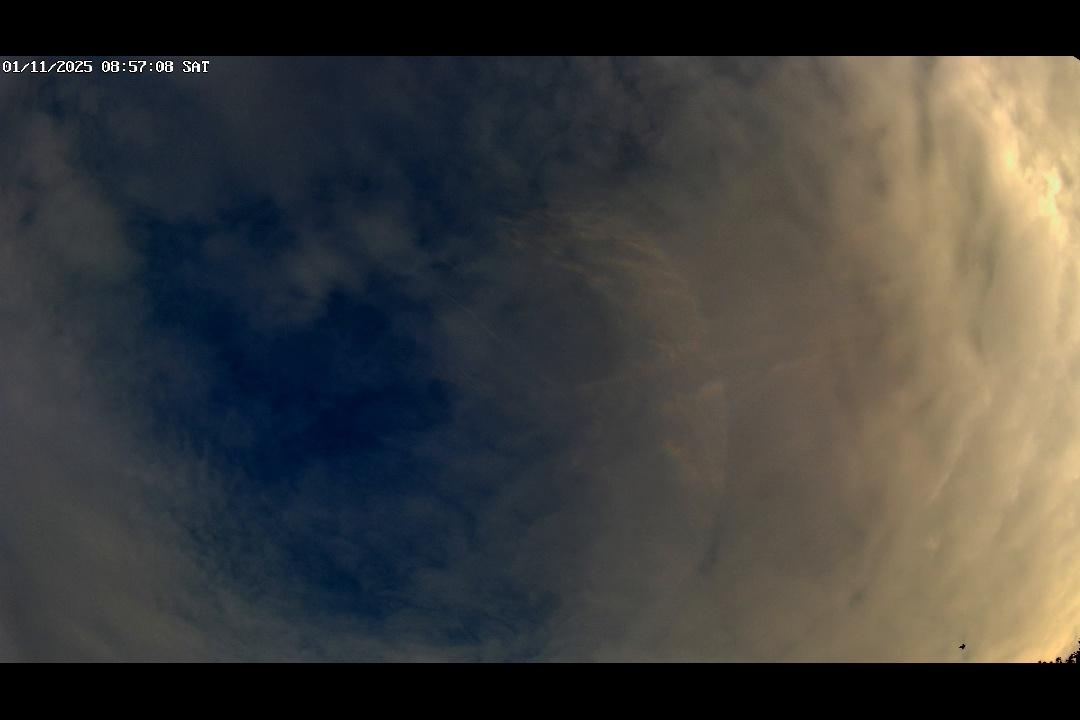WildLife: (958, 639, 970, 654)
